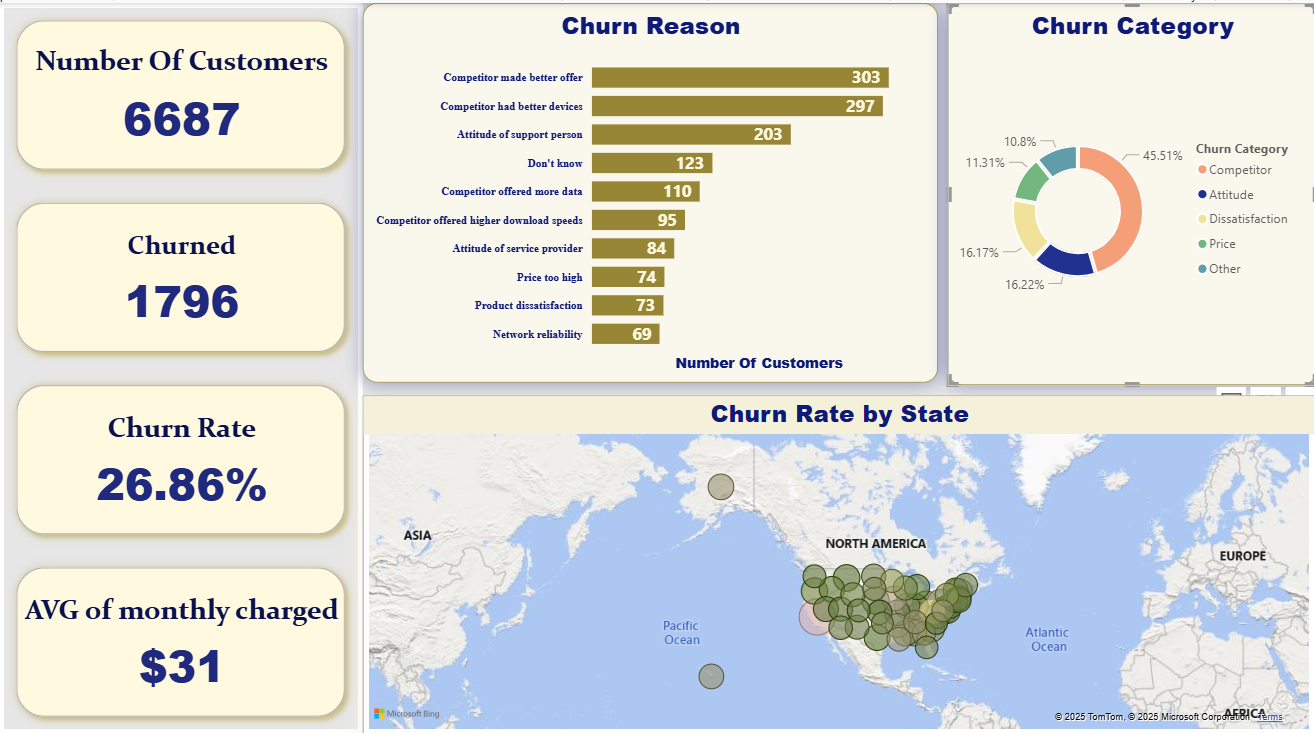

Layout of this report page (visuals, bound fields, positions):
{"tool":"powerbi","page":{"name":"Overview","canvas":[1280,720],"ordinal":0},"visuals":[{"type":"cardVisual","fields":{"Data":["Databel - Data (2).Number Of Customers","Databel - Data (2).Churned of Customers","Databel - Data (2).Churn Rate","Databel - Data (2).AVG of monthly charged"]},"box":[9.6,0,351.3,706.7],"z":0},{"type":"clusteredBarChart","title":"Churn Reason","fields":{"Y":["Databel - Data (2).Number Of Customers"],"Category":["Databel - Data (2).Churn Reason"]},"box":[360.9,0,481.6,369.1],"z":1000},{"type":"donutChart","title":"Churn Category","fields":{"Category":["Databel - Data (2).Churn Category"],"Y":["CountNonNull(Databel - Data (2).Churn Label)"]},"box":[852.1,0,428.1,369.1],"z":2000},{"type":"map","title":"Churn Rate by State","fields":{"Category":["Databel - Data.State"],"Size":["Databel - Data (2).Churn Rate"]},"box":[360.7,378.8,919.3,328.2],"z":3000}]}

Visuals, with their boxes in screenshot pixels (x1, y1, x2, y2), scaled from the page's 1280x720 canvas onto the 1314x733 screenshot:
cardVisual - Databel - Data (2).Number Of Customers x Databel - Data (2).Churned of Customers: select_region(10, 0, 370, 719)
"Churn Reason" clusteredBarChart: select_region(370, 0, 865, 376)
"Churn Category" donutChart: select_region(875, 0, 1313, 376)
"Churn Rate by State" map: select_region(370, 386, 1313, 720)
